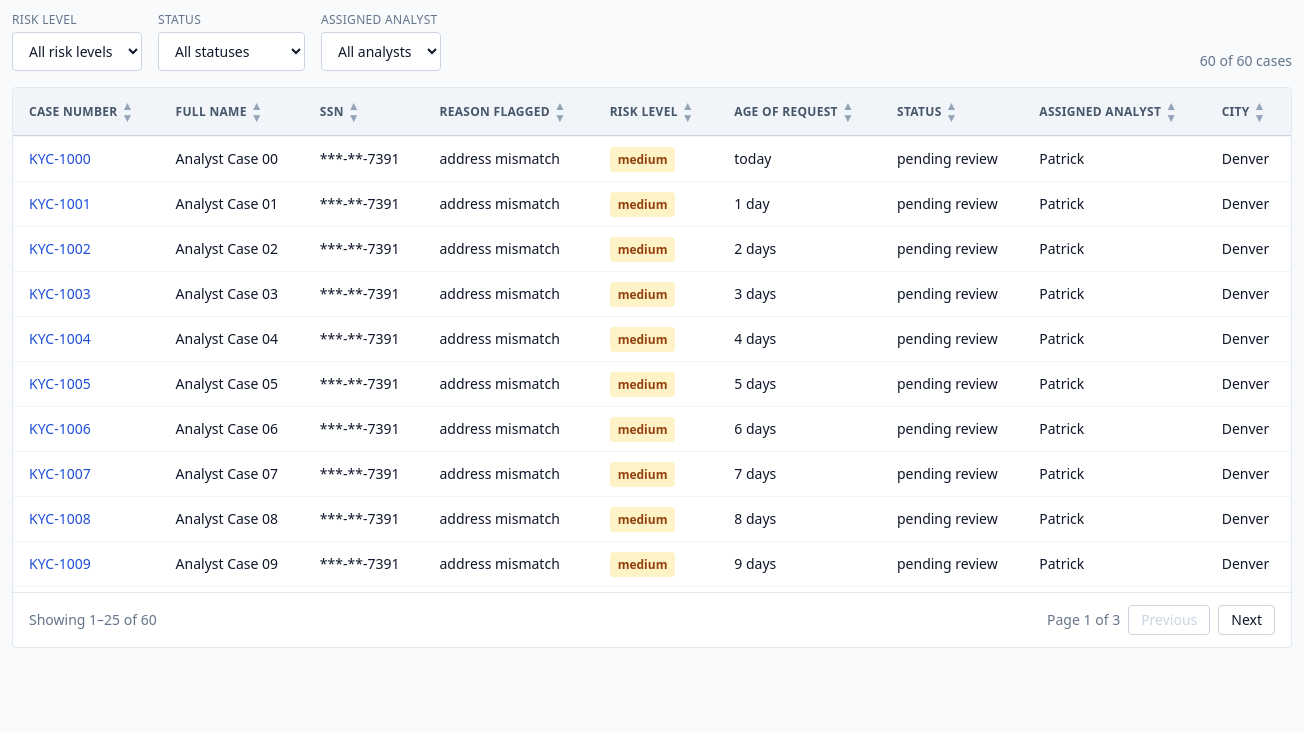
it: CaseQueue pagination › sorts across the whole queue, not just the current page
Step 1. Click the button "Full name ▲ ▼" → [219, 112], box [176,100,263,124]
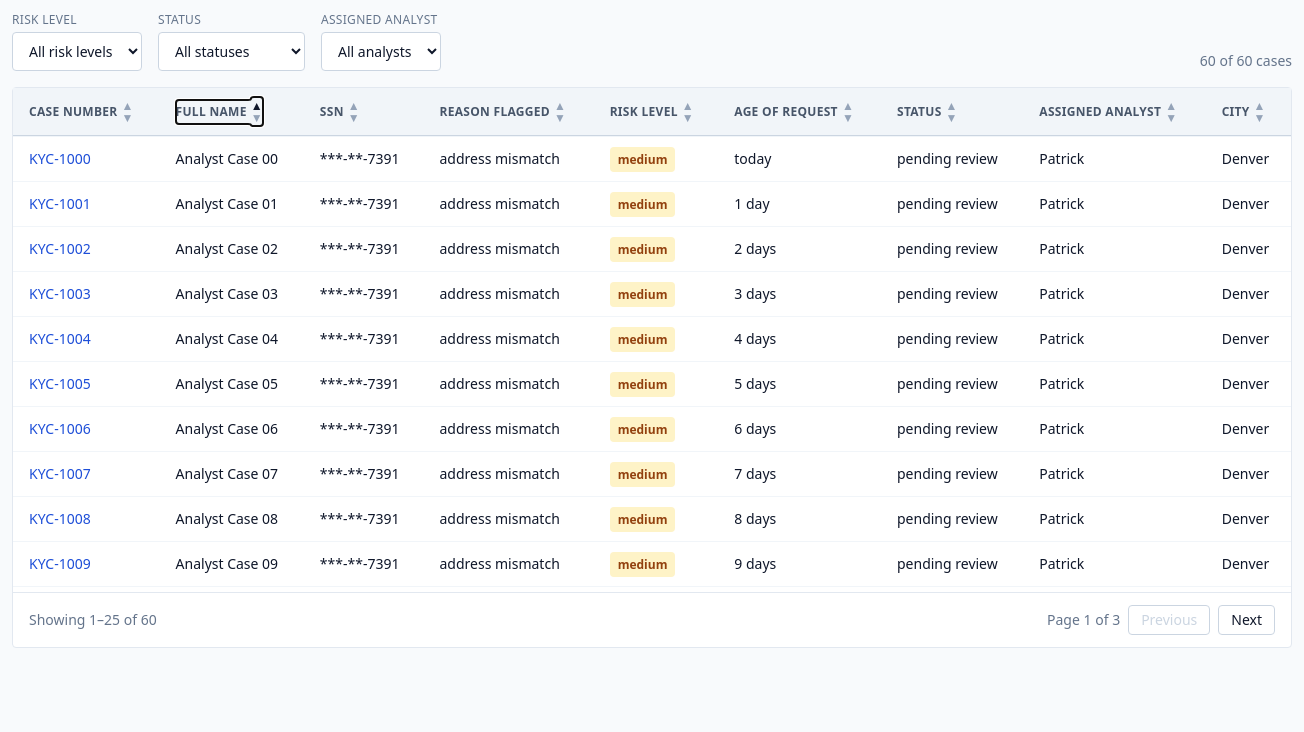
Expected: the link "KYC-1000" is shown, [29,149,91,168]
Step 2. Click the button "Full name ▲ ▼" → [219, 112], box [176,100,263,124]
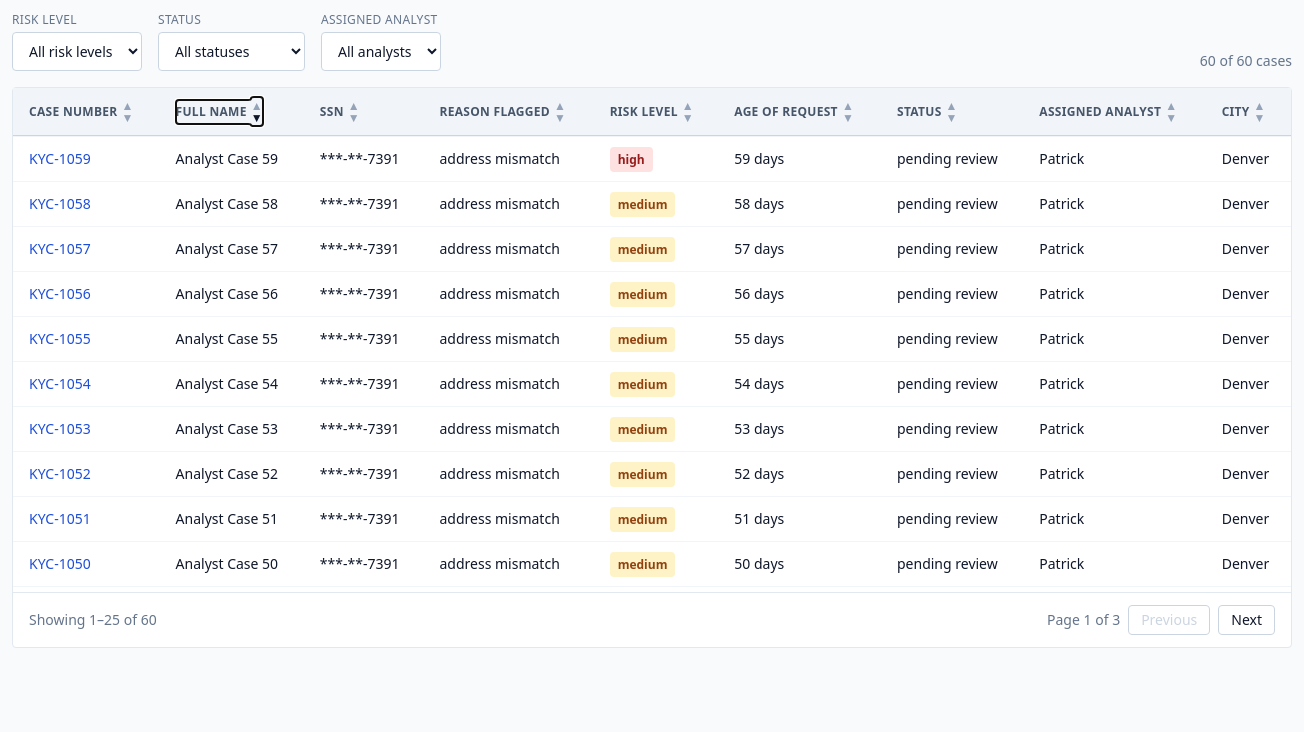
Expected: the link "KYC-1059" is shown, [29,149,91,168]
